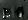person: (5, 9, 11, 20), (19, 5, 24, 17)
